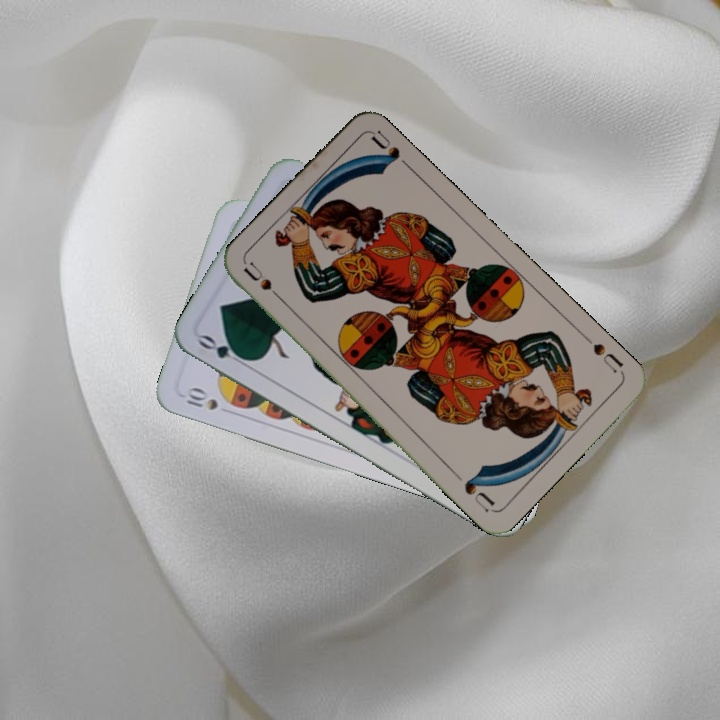GO: (194, 330, 252, 369)
S10: (182, 383, 221, 413)
SU: (240, 259, 289, 307), (589, 339, 626, 375)
